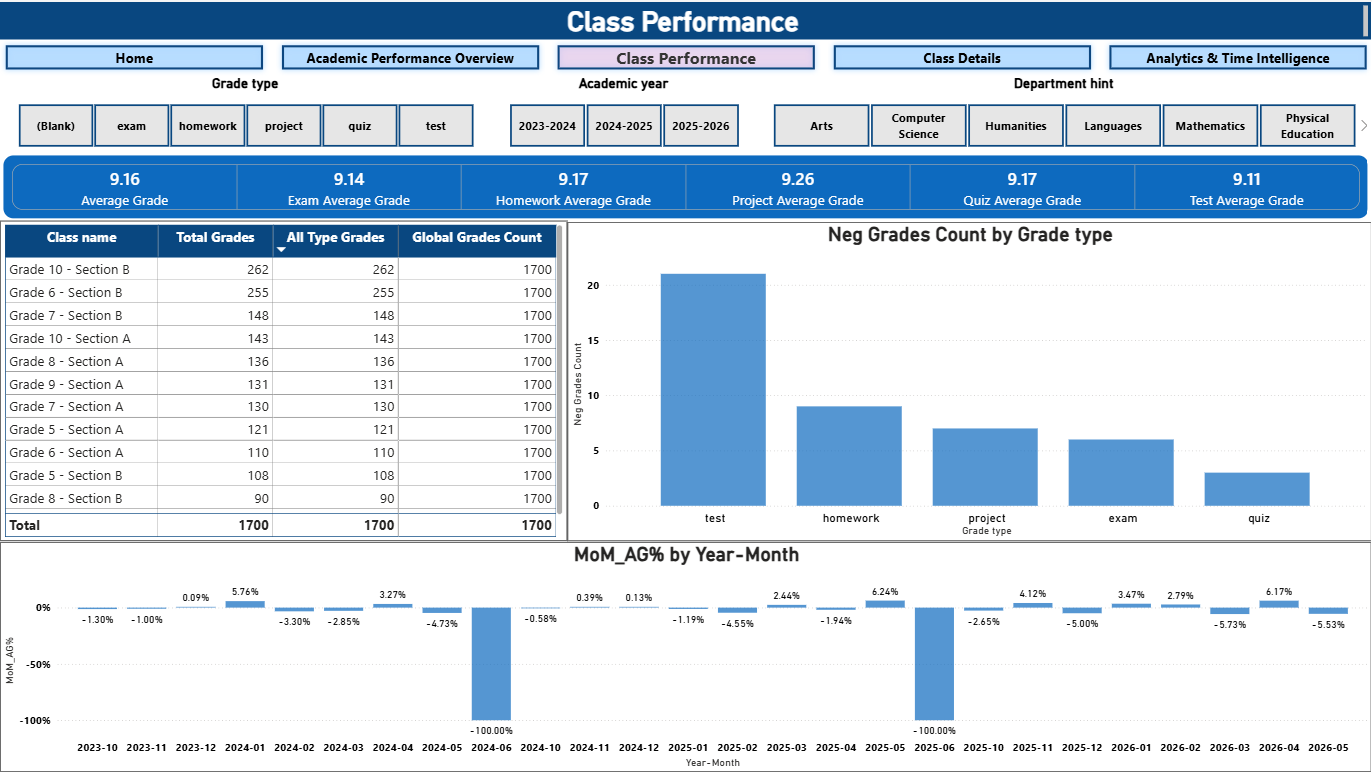

This screenshot's page, from the dashboard's own definition file:
{"tool":"powerbi","page":{"name":"Class Performance","canvas":[1920,1080],"ordinal":2},"visuals":[{"type":"textbox","box":[0,0,1920.4,53.5],"z":0},{"type":"cardVisual","fields":{"Data":["_Measures.Average Grade","_Measures.Exam Average Grade","_Measures.Homework Average Grade","_Measures.Project Average Grade","_Measures.Quiz Average Grade","_Measures.Test Average Grade"]},"box":[0,210,1920,98],"z":1000},{"type":"tableEx","fields":{"Values":["classes.class_name","_Measures.Total Grades","_Measures.All Type Grades","_Measures.Global Grades Count"]},"box":[0,306.7,793.3,448.3],"z":2000},{"type":"lineClusteredColumnComboChart","fields":{"Category":["grades.grade_type"],"Y":["_Measures.Neg Grades Count"]},"box":[793.3,308.3,1126,446],"z":3000},{"type":"columnChart","fields":{"Category":["Calendar.YearMonth"],"Y":["_Measures.MoM_AG%"]},"box":[0,755,1920,323.3],"z":4000},{"type":"slicer","title":"Grade type","fields":{"Values":["grades.grade_type"]},"box":[0,103.3,686,106],"z":5000},{"type":"slicer","title":"Department hint","fields":{"Values":["subjects.department_hint"]},"box":[1056.7,103.3,864,106],"z":6000},{"type":"slicer","title":"Academic year","fields":{"Values":["periods.academic_year"]},"box":[686.7,103.3,370,106],"z":7000},{"type":"pageNavigator","box":[0,53.3,1920,50],"z":8000}]}

Visuals, with their boxes in screenshot pixels (x1, y1, x2, y2), scaled from the page's 1920x1080 canvas onto the 1372x772 screenshot:
textbox: pyautogui.locateOnScreen(0, 0, 1371, 38)
cardVisual - _Measures.Average Grade x _Measures.Exam Average Grade: pyautogui.locateOnScreen(0, 150, 1371, 220)
tableEx - classes.class_name x _Measures.Total Grades: pyautogui.locateOnScreen(0, 219, 567, 540)
lineClusteredColumnComboChart - grades.grade_type x _Measures.Neg Grades Count: pyautogui.locateOnScreen(567, 220, 1371, 539)
columnChart - Calendar.YearMonth x _Measures.MoM_AG%: pyautogui.locateOnScreen(0, 540, 1371, 771)
"Grade type" slicer: pyautogui.locateOnScreen(0, 74, 490, 150)
"Department hint" slicer: pyautogui.locateOnScreen(755, 74, 1371, 150)
"Academic year" slicer: pyautogui.locateOnScreen(491, 74, 755, 150)
pageNavigator: pyautogui.locateOnScreen(0, 38, 1371, 74)
